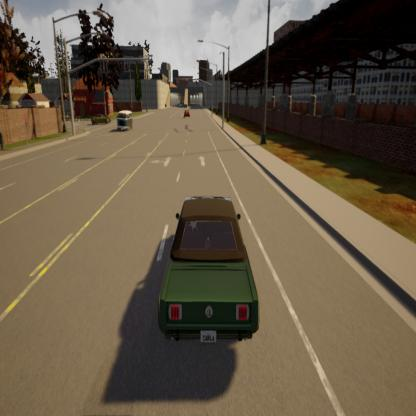Cars: (155, 189, 263, 352), (117, 108, 136, 135), (90, 111, 113, 127), (182, 107, 192, 119)
